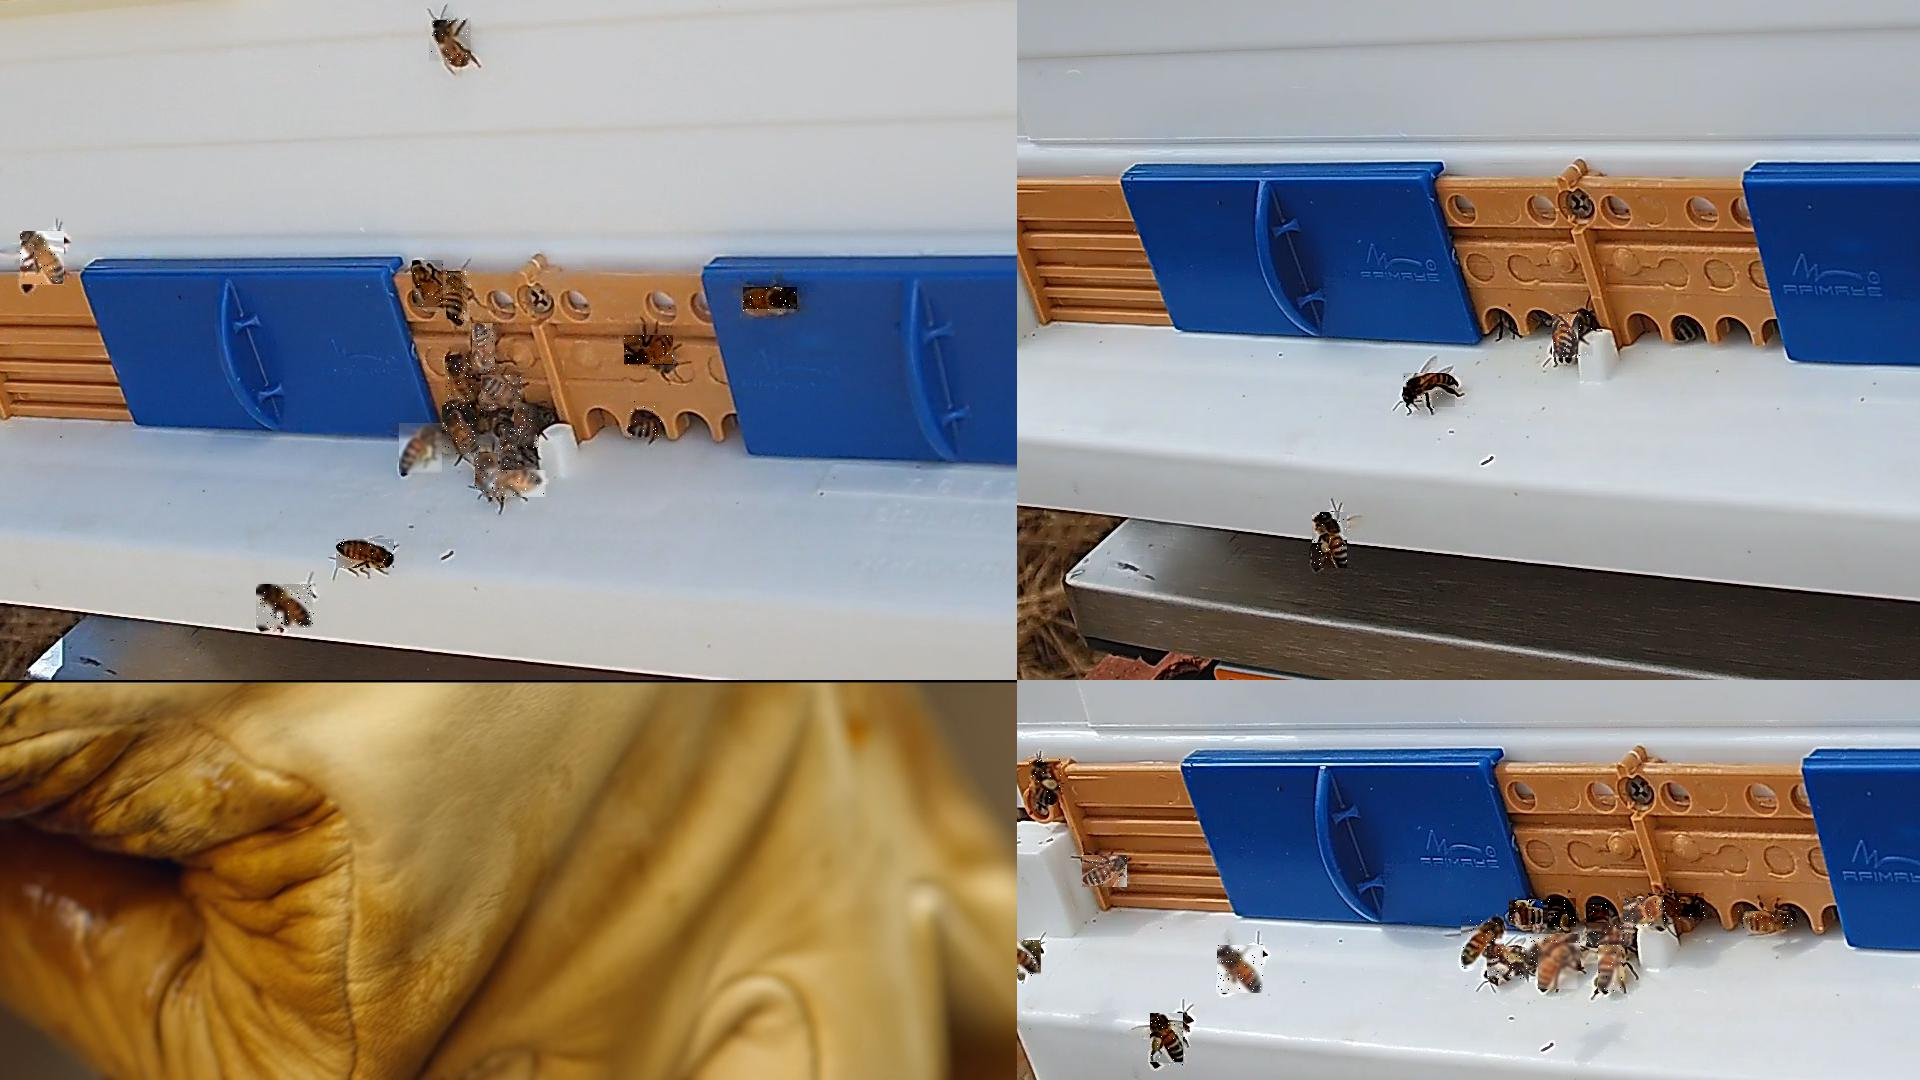bee: (257, 585, 316, 631), (20, 232, 65, 289), (1217, 945, 1264, 994), (443, 405, 484, 455), (1404, 374, 1459, 411), (1539, 943, 1581, 990), (429, 21, 472, 65), (484, 470, 549, 498), (336, 539, 395, 569), (1526, 934, 1581, 965), (445, 356, 477, 409), (624, 336, 674, 369), (413, 260, 447, 308), (1649, 894, 1708, 921), (1559, 312, 1594, 357), (1082, 855, 1128, 888), (482, 375, 526, 409), (1624, 899, 1667, 931), (743, 288, 798, 313), (1488, 948, 1529, 981), (1552, 315, 1579, 362), (1599, 946, 1625, 994), (628, 401, 662, 437), (472, 324, 496, 374), (515, 404, 540, 450), (447, 272, 468, 324), (1738, 912, 1797, 930), (1587, 925, 1634, 946), (475, 454, 499, 491), (501, 428, 522, 470), (1587, 904, 1613, 935)
pollenbee: (1461, 917, 1505, 970), (399, 424, 443, 476), (1312, 512, 1348, 569), (1151, 1014, 1188, 1067), (1029, 759, 1062, 803), (1549, 899, 1580, 931), (1510, 900, 1548, 926), (1017, 940, 1043, 978)
